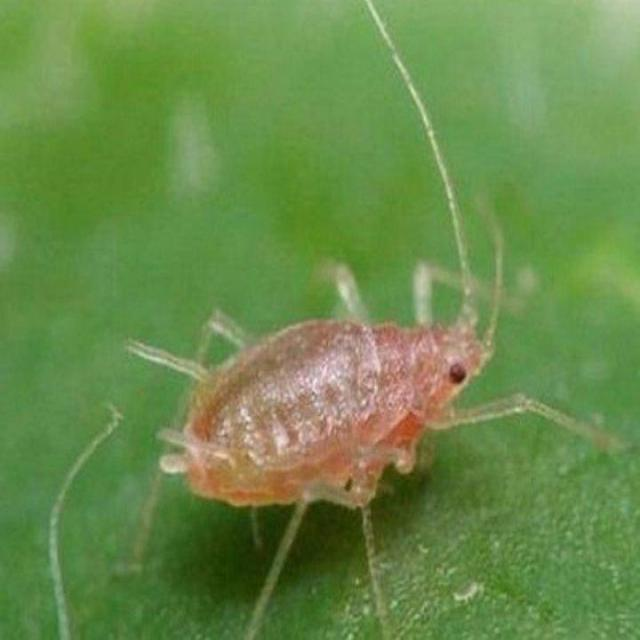Aphids: (34, 114, 618, 621)
